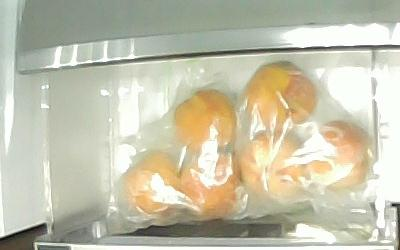peach_vinyl: (242, 63, 316, 126), (242, 131, 305, 203), (304, 124, 369, 190), (123, 152, 181, 218), (181, 151, 240, 213), (173, 90, 234, 147)
